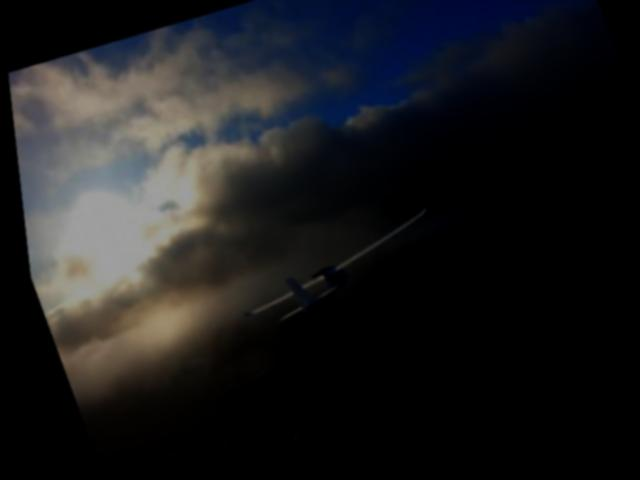uav: (208, 198, 456, 341)
